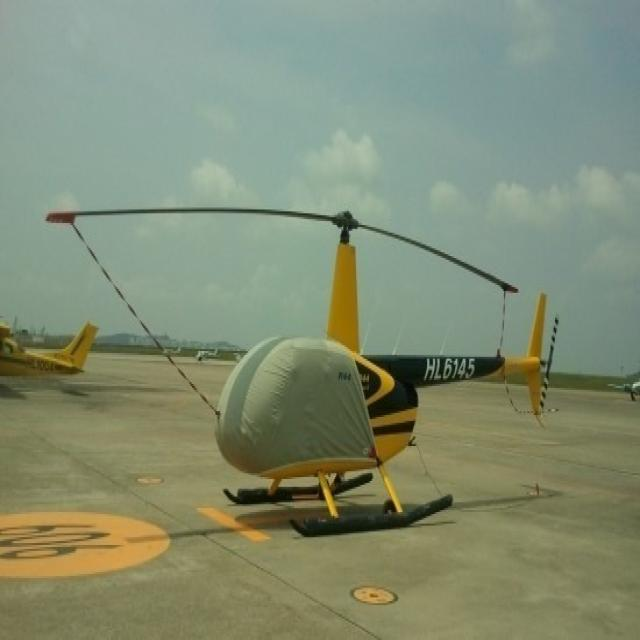CIV_HELO: (210, 206, 552, 537)
